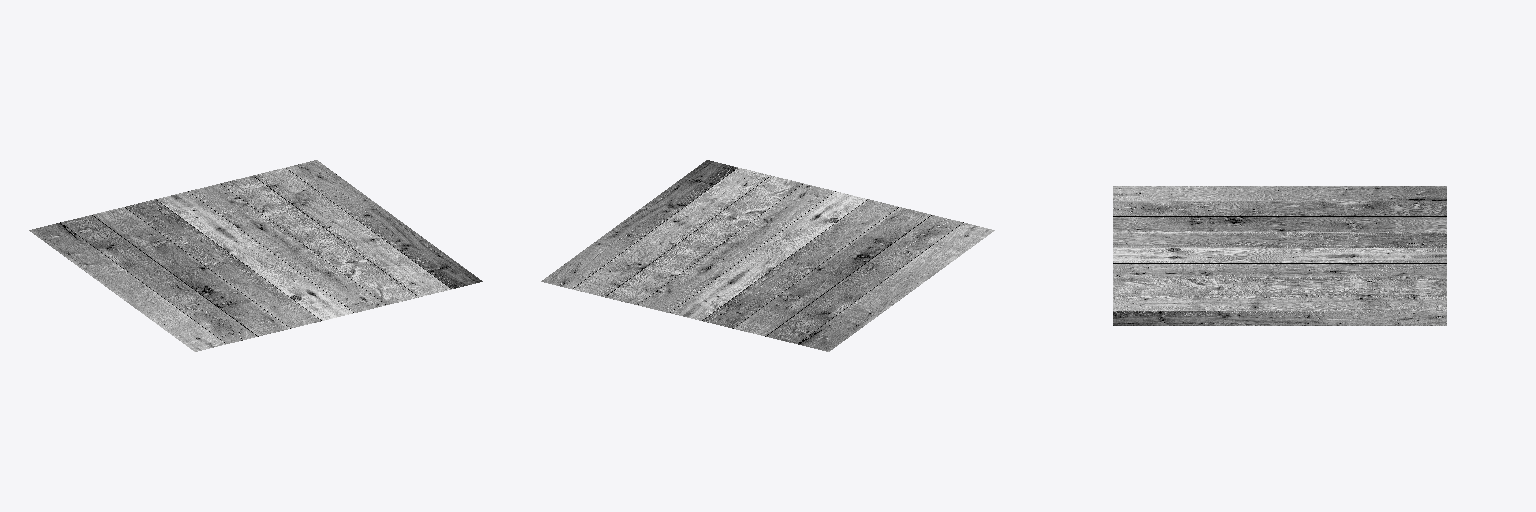
3 views of the same model, side by side, from view 1: azimuth 30°, elevation 25°; view 2: azimuth 150°, elevation 25°; view 3: azimuth 270°, elevation 25° (orthographic).
Parts seen in each view (by area): view 1: plank_Plane; view 2: plank_Plane; view 3: plank_Plane.
Part boxes in pixels (left/top/right/bottom): plank_Plane: left=29, top=160, right=482, bottom=351; plank_Plane: left=541, top=160, right=994, bottom=351; plank_Plane: left=1113, top=186, right=1446, bottom=325.
Bounding box in the file's own units: 2 × 0 × 2.
Materials: 1 (1 with a texture image).